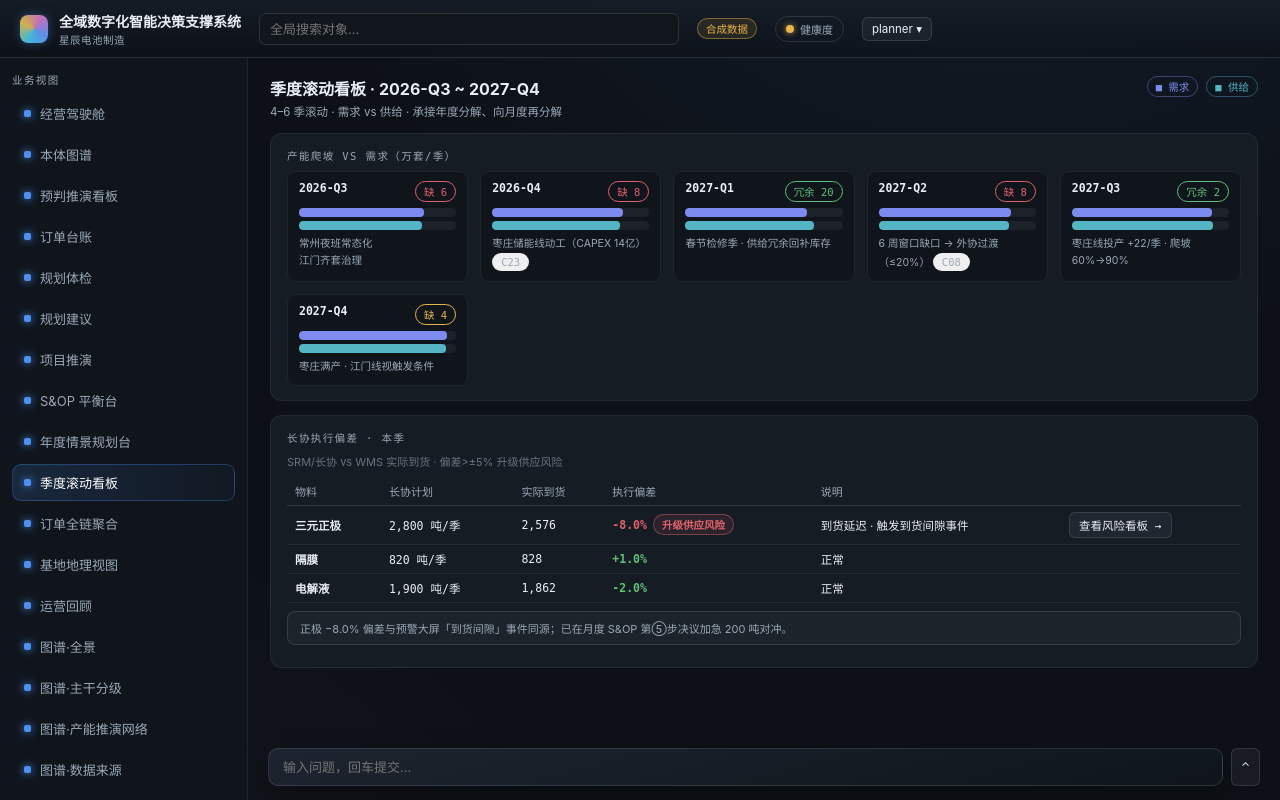
Test: F22 · 季度滚动看板（quarterly-rolling） › 长协 −8% 行红色 + 升级供应风险标记 + 行尾链接跳 risk-board 并写入对应基地
This screenshot has width=1280, height=800.
expect the cell with test id "lta-dev-三元正极" shows "-8.0%": met, box [604, 505, 813, 544]
expect the text with test id "lta-escalate-三元正极" reads "升级供应风险": met, box [662, 519, 725, 531]
行尾链接 → /v/risk + 基地写入 selectedObjects（到货间隙事件同源基地：合肥）
Click the button with test id "lta-goto-risk-三元正极".
click(1120, 525)  # box [1069, 512, 1172, 538]
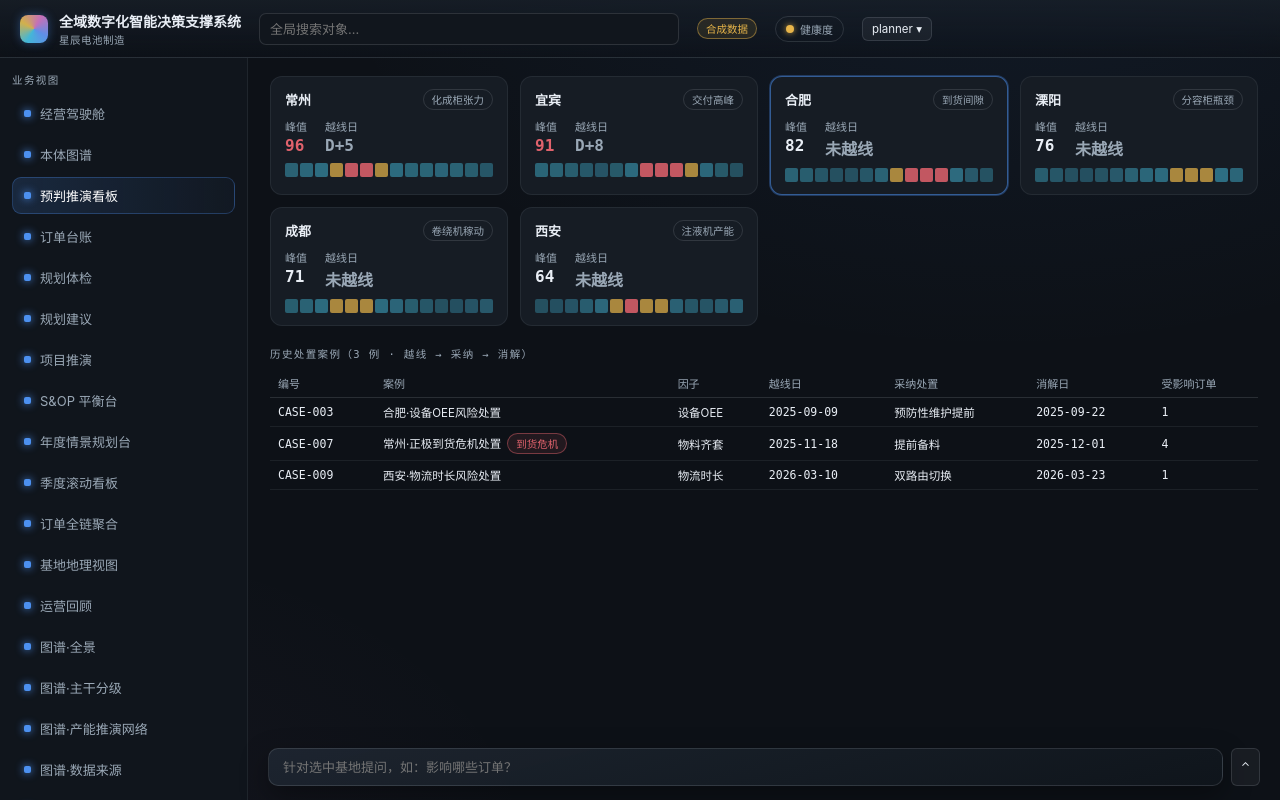
expect the button with test id "risk-card-合肥" is shown: met, box [770, 76, 1008, 195]
